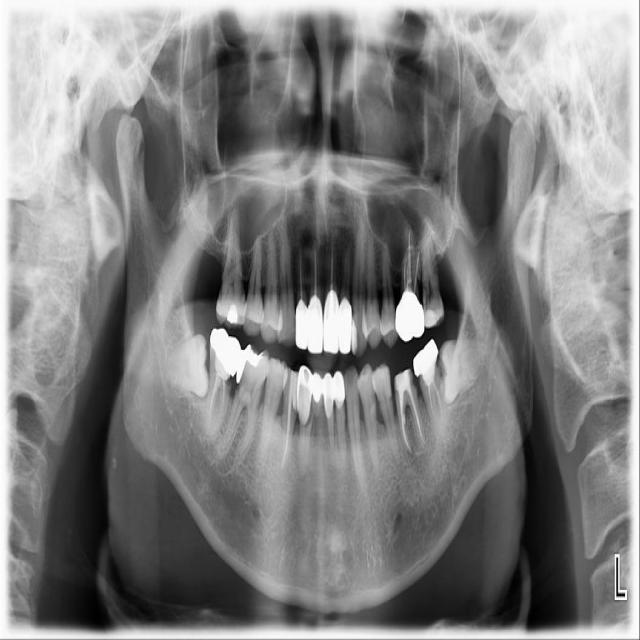52: (204, 322, 252, 378), (236, 342, 272, 386), (406, 339, 444, 378), (396, 291, 425, 342), (214, 287, 249, 329), (323, 289, 340, 354), (298, 367, 313, 425), (308, 296, 323, 353), (338, 297, 353, 354), (351, 311, 368, 356), (321, 372, 336, 417), (295, 300, 308, 349), (331, 370, 346, 409), (312, 373, 323, 402)
73: (413, 350, 455, 440), (390, 367, 429, 457), (279, 368, 300, 474), (400, 222, 424, 305), (325, 233, 342, 306), (308, 240, 322, 313), (296, 240, 309, 310), (617, 609, 631, 617)
BioHorizons Implant: (417, 219, 445, 328)
Biomet 3i Implant: (431, 335, 490, 409)
Blue Sky Bio Implant: (409, 337, 453, 441)
Implant: (204, 327, 242, 437)
Keystone Dental Implant: (161, 332, 212, 401)
